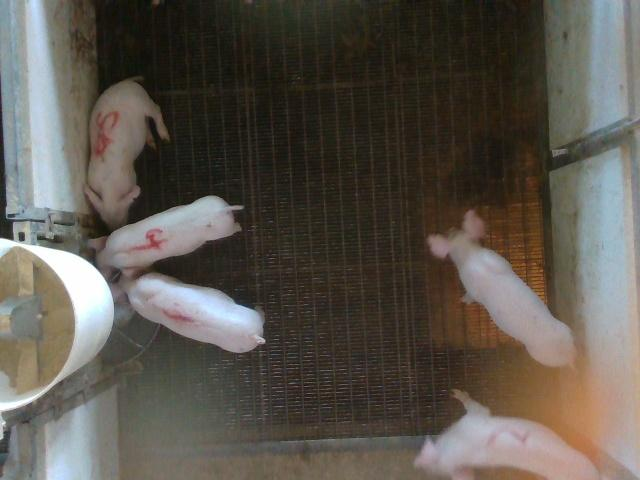pig-1: (120, 272, 265, 352)
pig-2: (415, 409, 599, 479)
pig-4: (99, 195, 242, 268)
pig-5: (84, 78, 170, 229)
